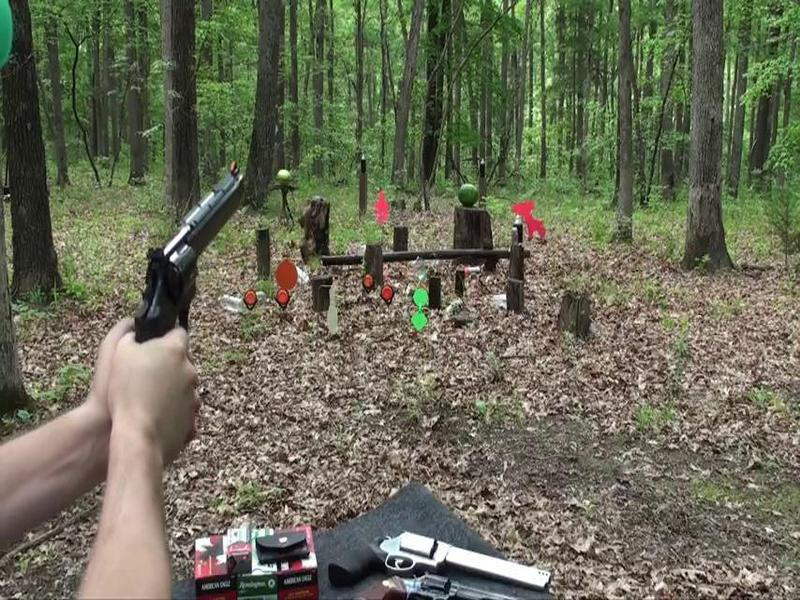Revolver: (135, 157, 252, 377)
